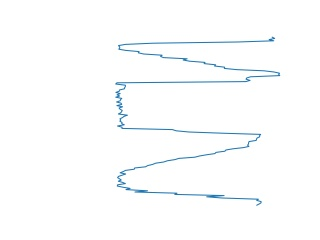distributaryChannelFill: (110, 73, 265, 143)
mouthBar: (115, 32, 284, 75)
underwaterDistributaryChannel: (112, 138, 266, 208)
